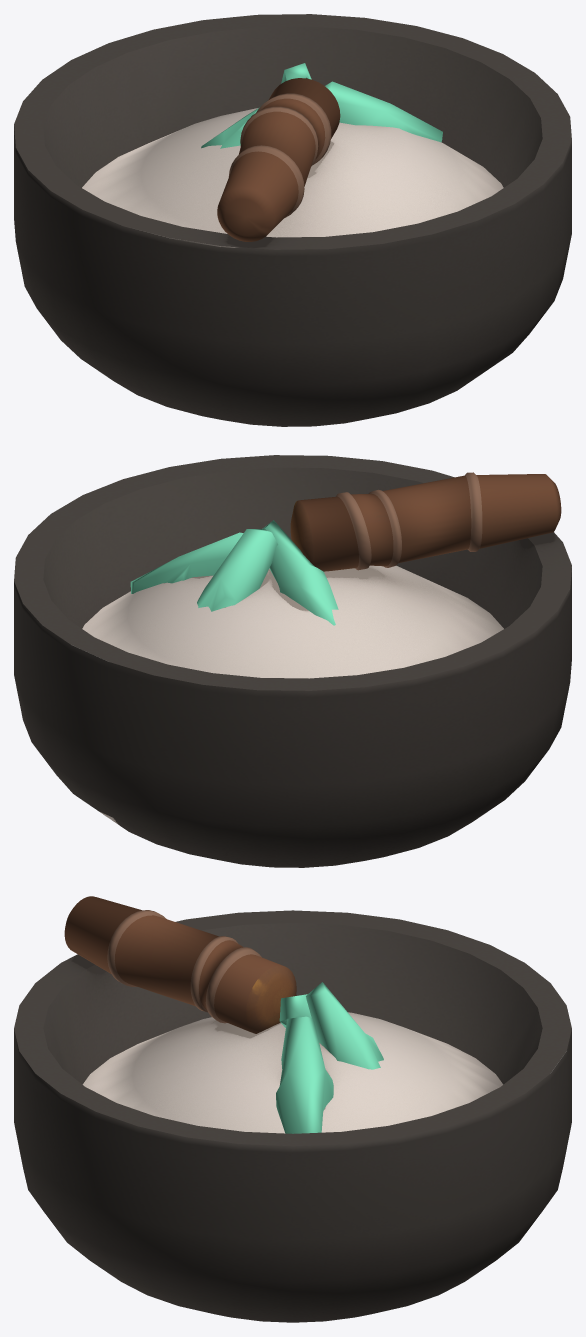
Rendered from Sage and salt.fbx.
3 views of the same model, one above another, from view 1: azimuth 30°, elevation 25°; view 2: azimuth 150°, elevation 25°; view 3: azimuth 270°, elevation 25° (orthographic).
Visible parts, largest first — view 1: Plane.026; view 2: Plane.026; view 3: Plane.026.
Boxes of the visible parts, bbox=[...] form: Plane.026: bbox=[14, 14, 571, 426]; Plane.026: bbox=[14, 455, 571, 867]; Plane.026: bbox=[14, 896, 571, 1322].
Size of the model in its own units: 37.22 by 22.7 by 37.22.
